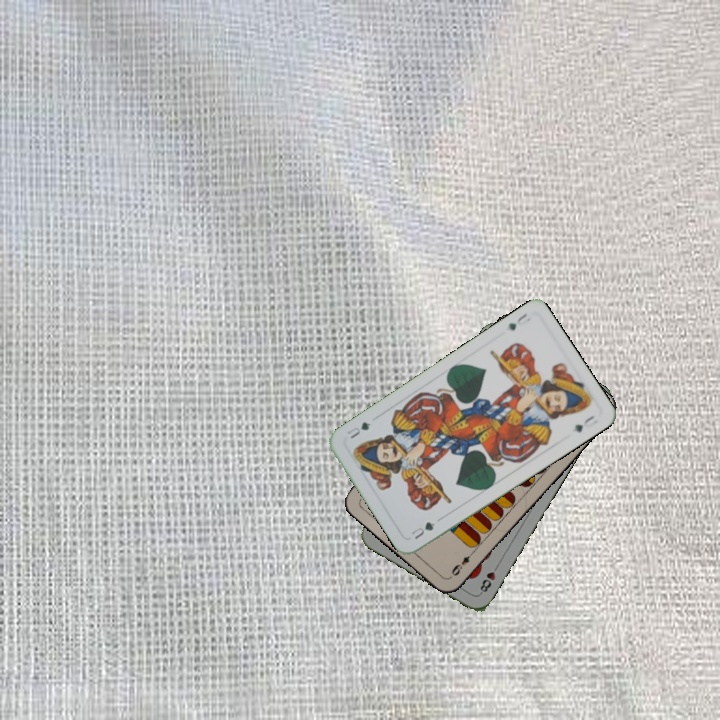E9: (446, 547, 477, 580)
GU: (407, 518, 438, 542), (504, 309, 533, 333)
H8: (476, 560, 502, 597)
